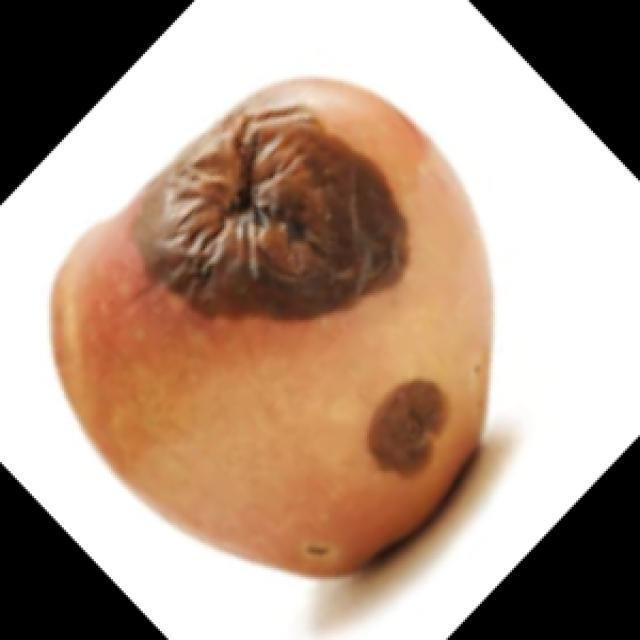Rotten: (55, 77, 538, 565)
